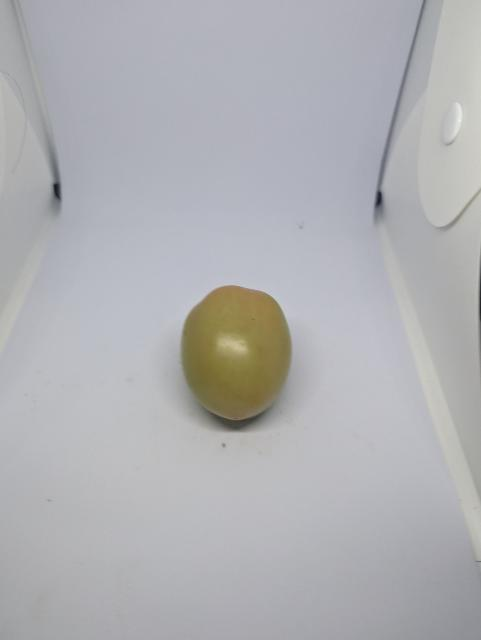breaker: (176, 280, 301, 431)
